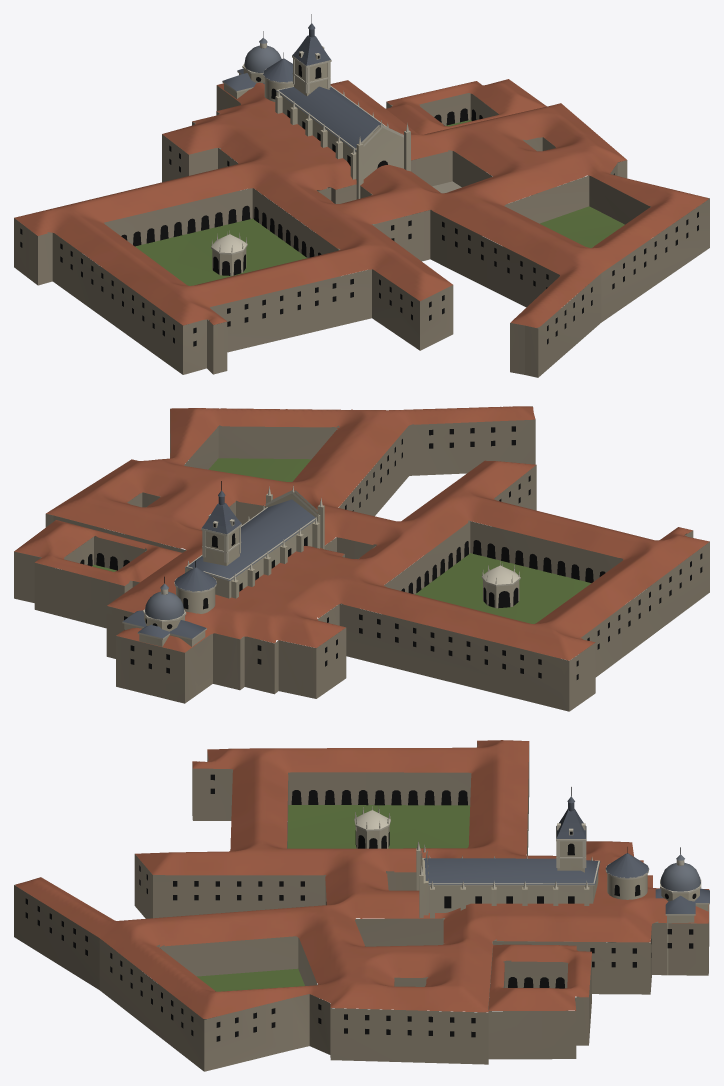
3 views of the same model, one above another, from view 1: azimuth 30°, elevation 25°; view 2: azimuth 150°, elevation 25°; view 3: azimuth 270°, elevation 25° (orthographic). The views are drawn at different scales.
Parts seen in each view (by area): view 1: ranges, nave, tower, templete, transparente, sagrario, dome; view 2: ranges, nave, tower, sagrario, transparente, templete, dome; view 3: ranges, nave, tower, transparente, sagrario, templete, dome.
Part boxes in pixels (box(x1,y1,x2,y2)): ranges: box(14, 79, 709, 377); nave: box(275, 86, 410, 224); tower: box(292, 14, 331, 96); templete: box(211, 230, 247, 275); transparente: box(263, 52, 293, 101); sagrario: box(222, 31, 266, 98); dome: box(244, 37, 281, 72); ranges: box(14, 406, 709, 711); nave: box(185, 485, 324, 638); tower: box(201, 481, 241, 565); sagrario: box(122, 576, 206, 646); transparente: box(174, 560, 216, 613); templete: box(481, 561, 520, 608); dome: box(145, 583, 184, 619); ranges: box(14, 740, 709, 1071); nave: box(416, 840, 600, 943); tower: box(556, 787, 586, 872); transparente: box(605, 847, 649, 942); sagrario: box(655, 847, 709, 975); templete: box(354, 806, 390, 848); dome: box(660, 854, 700, 891).
Size of the model in its own units: 155 by 44 by 164.
